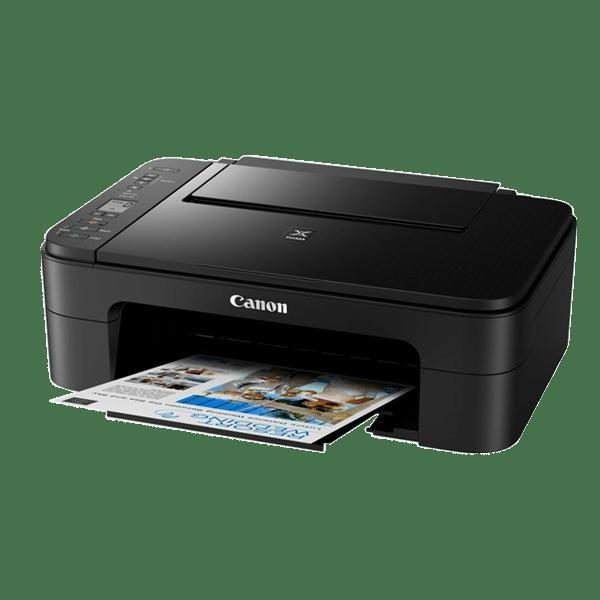Printer: (38, 154, 576, 454)
